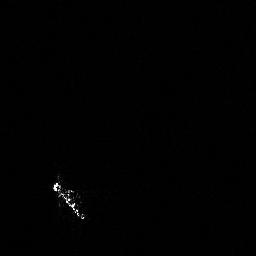ship: (50, 173, 89, 221)
